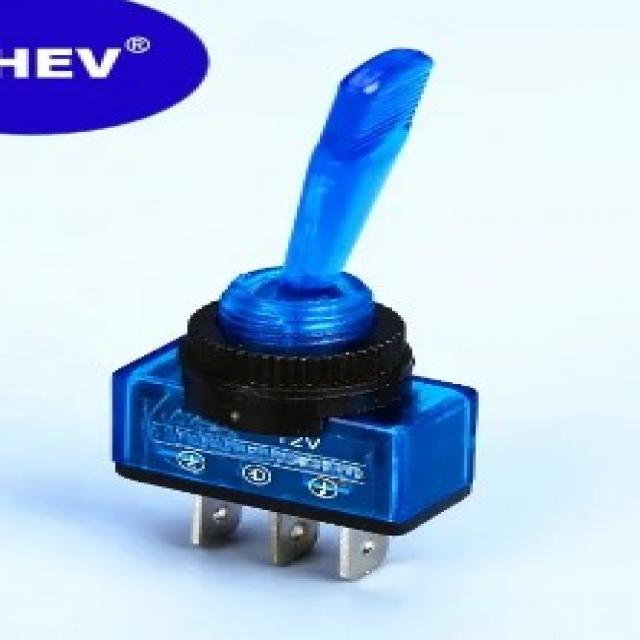toggle switch: (173, 49, 435, 390)
